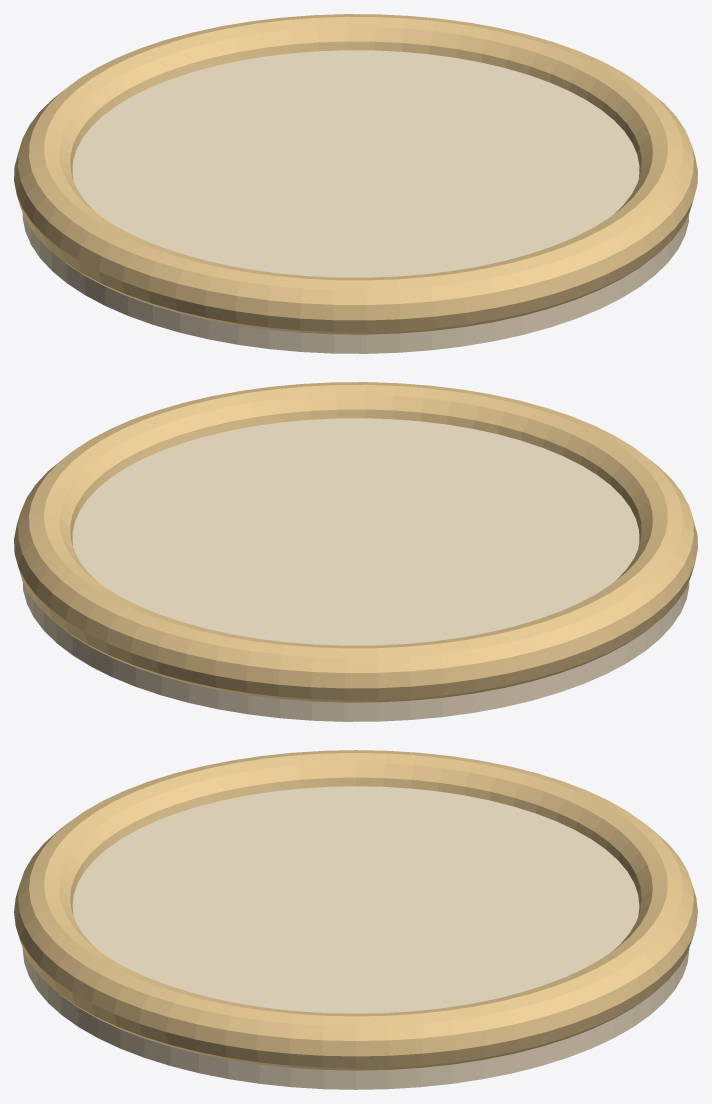
Rendered from layer_dough.glb.
The picture shows the model from 3 angles, top to bottom: view 1: azimuth 30°, elevation 25°; view 2: azimuth 150°, elevation 25°; view 3: azimuth 270°, elevation 25°; orthographic projection.
Parts seen in each view (by area): view 1: dough_base, dough_crust; view 2: dough_base, dough_crust; view 3: dough_base, dough_crust.
Part boxes in pixels (<box>): dough_base: <box>22,50,688,353</box>; dough_crust: <box>14,14,697,334</box>; dough_base: <box>23,418,689,721</box>; dough_crust: <box>14,382,697,702</box>; dough_base: <box>22,786,689,1089</box>; dough_crust: <box>14,750,697,1070</box>.
Size of the model in its own units: 0.318 by 0.033 by 0.318.
